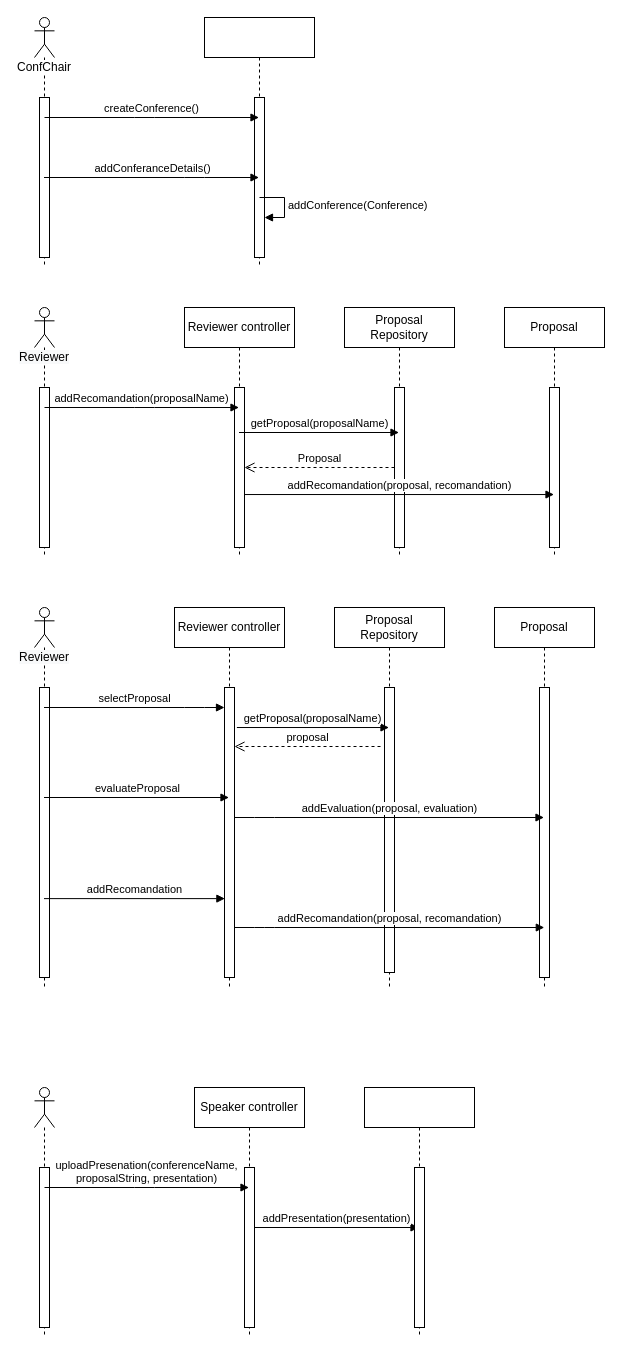
The diagram is 622 pixels wide and 1355 high, and some of its shapes have lost their labels. Here are the shapes that lost their labels. From the top down, the box of each, then its label:
(204, 16, 314, 268): Committee controller
(34, 1086, 54, 1338): Speaker
(364, 1086, 474, 1338): Conference Repository
